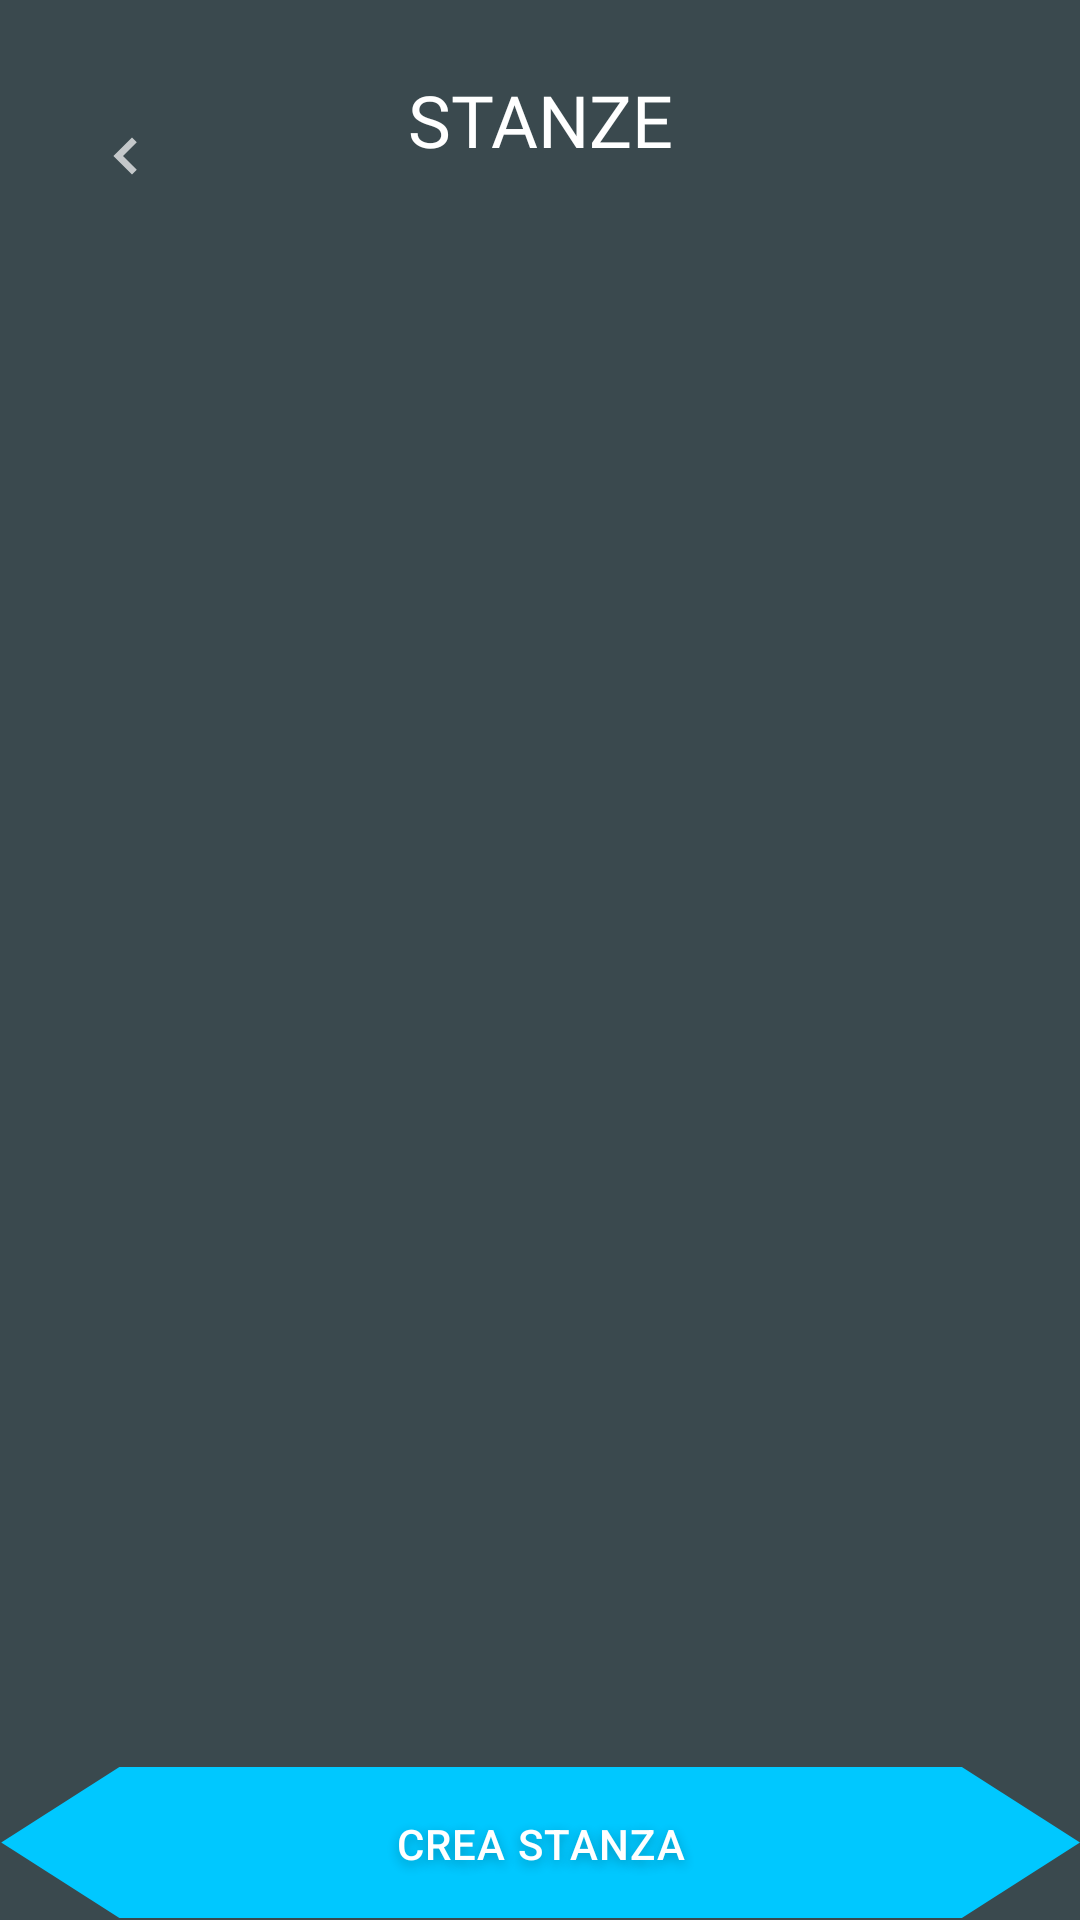

Locate icon controls on the screen. Image size 1080x1920, boxes as (x1, y1, x2, y2).
chevron left: (114, 138, 137, 174)
